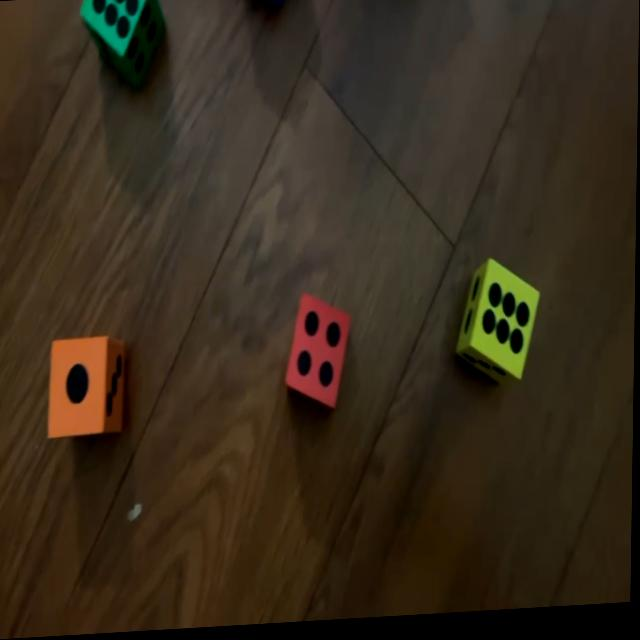red_block: (287, 291, 353, 415)
